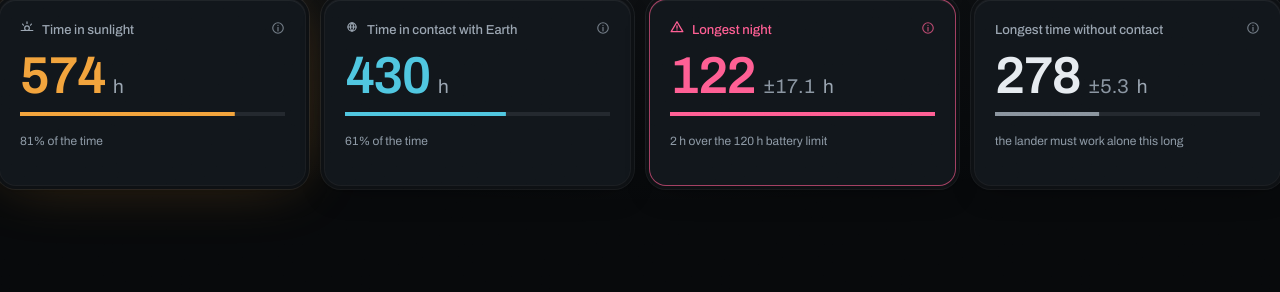
KeyNumberRow › says what a number means, and its professional name, only when its label is pressed
This screenshot has width=1280, height=292.
Click the button "Time in contact with Earth" at (492, 30), box top-left (367, 12), bottom-right (618, 48)
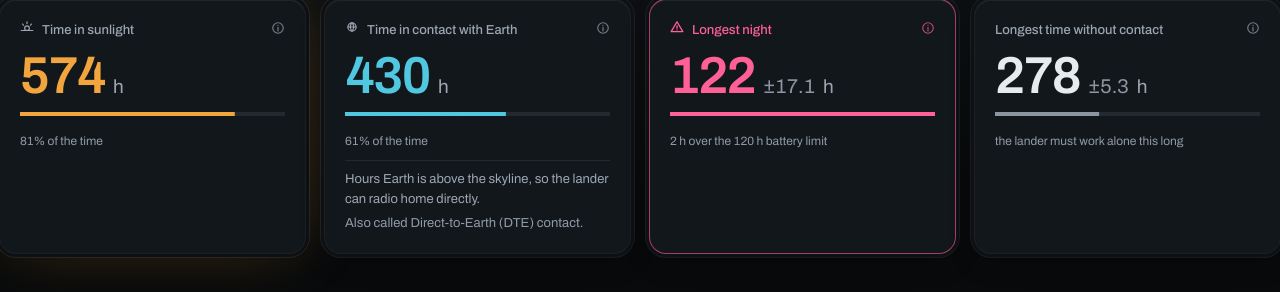
Result: the text "Also called Direct-to-Earth (DTE) contact." is shown at top-left (345, 216), bottom-right (583, 230)
